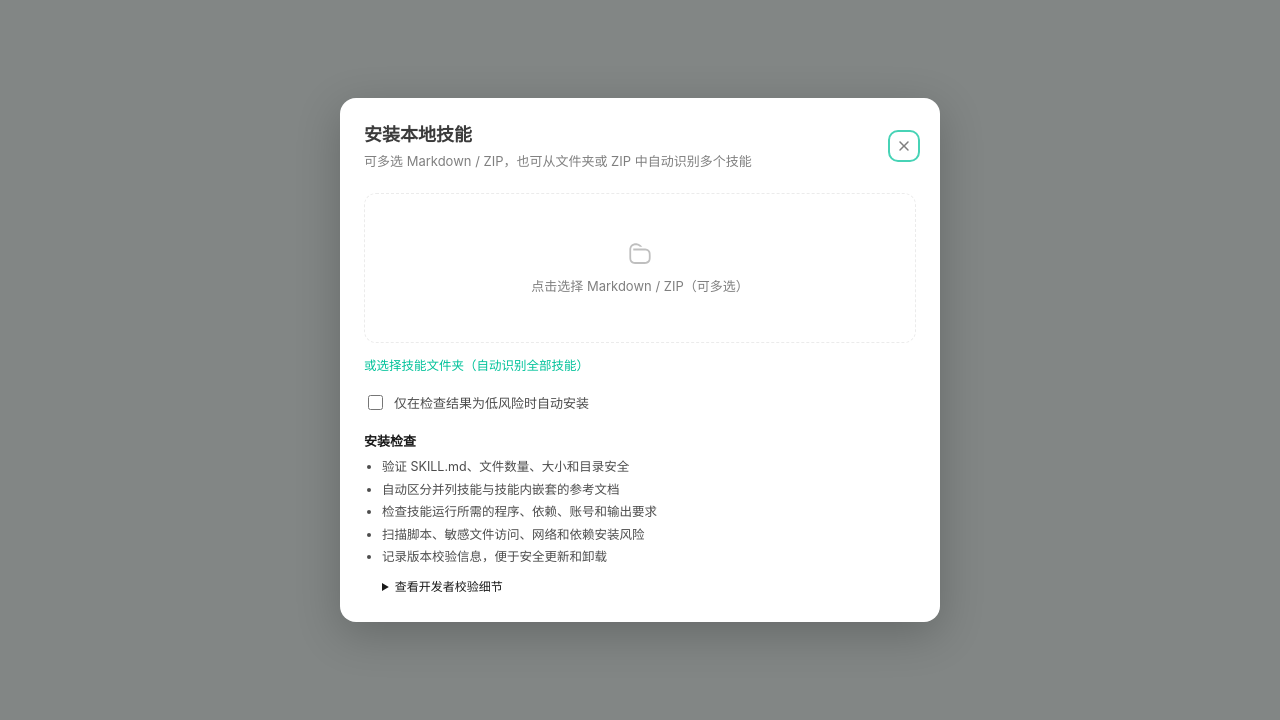
Test: ImportSkillModal — 列表型批量安装 › 多选文件后并行 inspect,每个文件单独成行
Click the button with aria-label "选择 Markdown 或 ZIP 技能文件". click: (640, 268)
box: top-left (364, 193), bottom-right (916, 343)
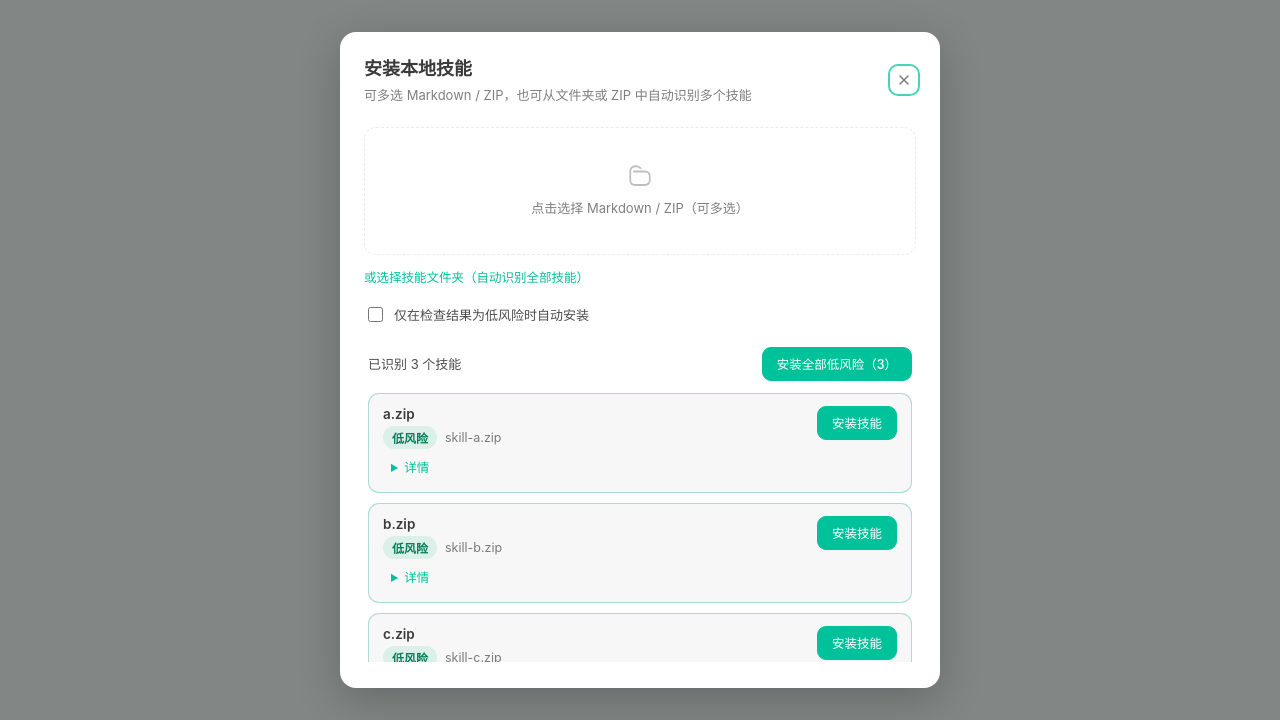
Result: the text "a.zip" is shown at top-left (383, 406), bottom-right (415, 422)
Result: the text "b.zip" is shown at top-left (383, 516), bottom-right (415, 532)
Result: the text "c.zip" is shown at top-left (383, 626), bottom-right (415, 642)
